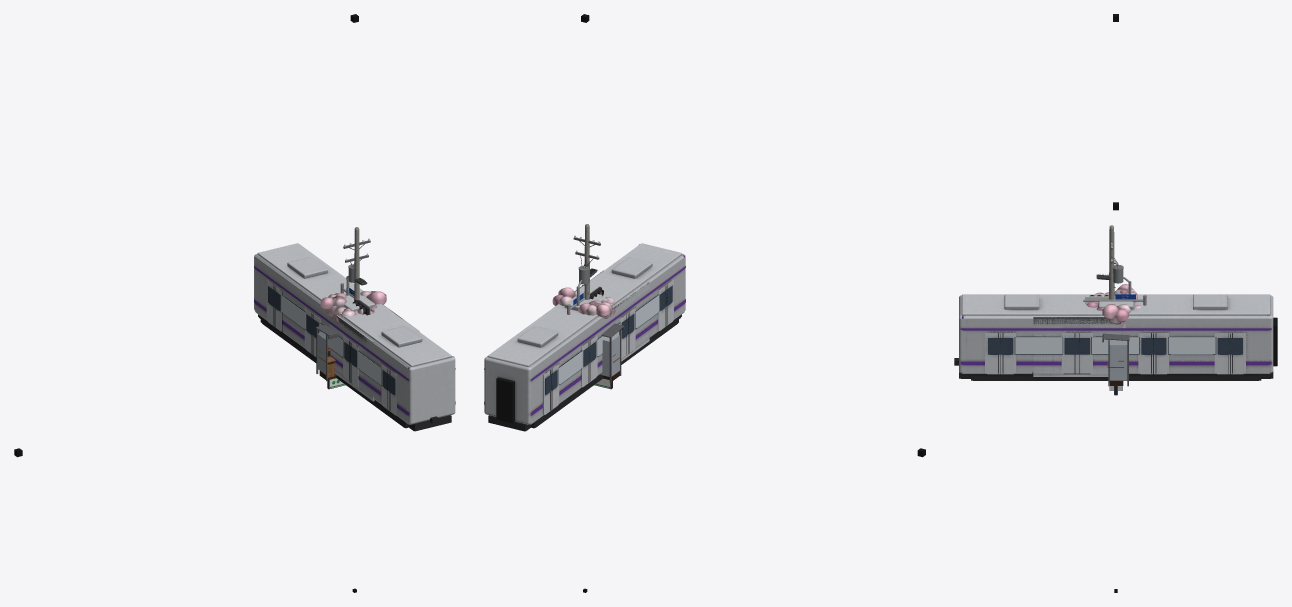
File: DeathsGambitModels_Tokyo.fbx
3 views of the same model, side by side, from view 1: azimuth 30°, elevation 25°; view 2: azimuth 150°, elevation 25°; view 3: azimuth 270°, elevation 25° (orthographic).
Visible parts, largest first — view 1: TrainMiddle, TrainHead, TrainCarOpen, TreeSakura, UtilityPole, BusShelter, TrainCarOpen_Glow2; view 2: TrainHead, TrainCarOpen, TrainMiddle, BusShelter, TreeSakura, UtilityPole, TrainHead_Glow; view 3: TrainHead, TrainCarOpen, TrainMiddle, TrainHead_Glow, BusShelter, TreeSakura, TrainCarOpen_Glow2, TrainMiddle_Glow, UtilityPole.
Boxes of the visible parts, <box> form: TrainMiddle: <box>256,245,455,431</box>; TrainHead: <box>254,243,454,423</box>; TrainCarOpen: <box>255,255,419,430</box>; TreeSakura: <box>320,291,386,322</box>; UtilityPole: <box>343,227,370,301</box>; BusShelter: <box>315,325,338,381</box>; TrainCarOpen_Glow2: <box>282,297,380,384</box>; TrainHead: <box>484,244,684,431</box>; TrainCarOpen: <box>526,255,684,430</box>; TrainMiddle: <box>531,243,685,426</box>; BusShelter: <box>600,323,624,382</box>; TreeSakura: <box>552,287,615,318</box>; UtilityPole: <box>573,224,600,299</box>; TrainHead_Glow: <box>559,297,656,384</box>; TrainHead: <box>954,294,1277,380</box>; TrainCarOpen: <box>961,315,1270,380</box>; TrainMiddle: <box>959,294,1268,380</box>; TrainHead_Glow: <box>1020,337,1215,353</box>; BusShelter: <box>1102,333,1129,386</box>; TreeSakura: <box>1086,284,1141,328</box>; TrainCarOpen_Glow2: <box>1170,338,1213,354</box>; TrainMiddle_Glow: <box>1015,337,1210,353</box>; UtilityPole: <box>1109,225,1123,299</box>.
Size of the model in its own units: 70.7 by 105 by 53.2.
Materials: 165 (80 with a texture image).
